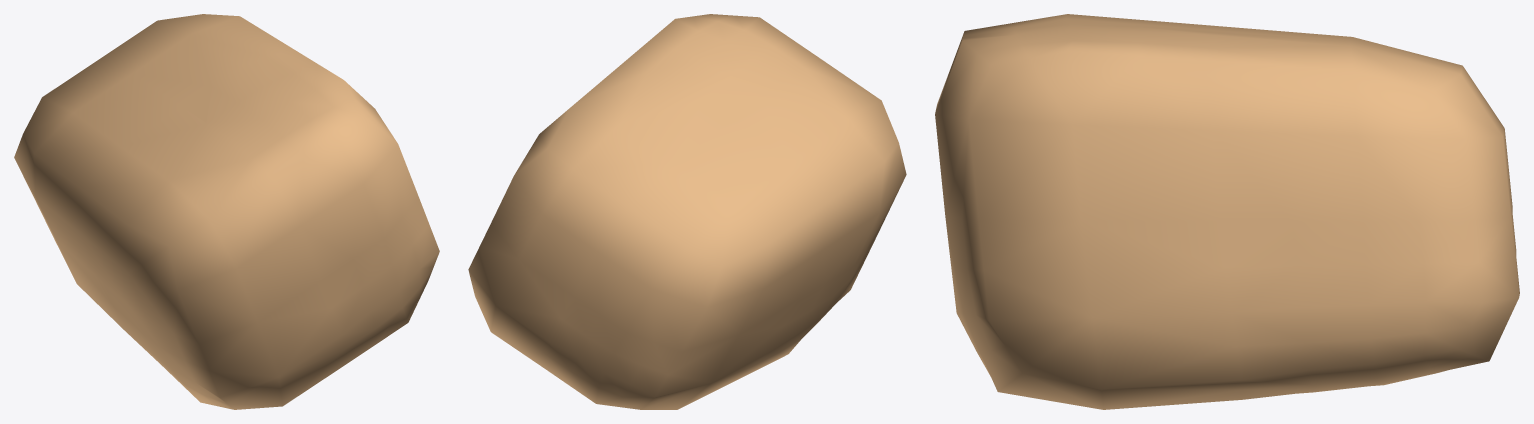
The model's file is pinky_02_r.dae.
The picture shows the model from 3 angles, left to right: view 1: azimuth 30°, elevation 25°; view 2: azimuth 150°, elevation 25°; view 3: azimuth 270°, elevation 25°; orthographic projection. The views are drawn at different scales.
Visible parts, largest first — view 1: skin_geo_pinky_02_r; view 2: skin_geo_pinky_02_r; view 3: skin_geo_pinky_02_r.
Part boxes in pixels (x1,y1,x2,y2): skin_geo_pinky_02_r: [14, 14, 439, 409]; skin_geo_pinky_02_r: [468, 14, 906, 409]; skin_geo_pinky_02_r: [935, 14, 1519, 409].
Size of the model in its own units: 0.0201 by 0.0253 by 0.0194.
